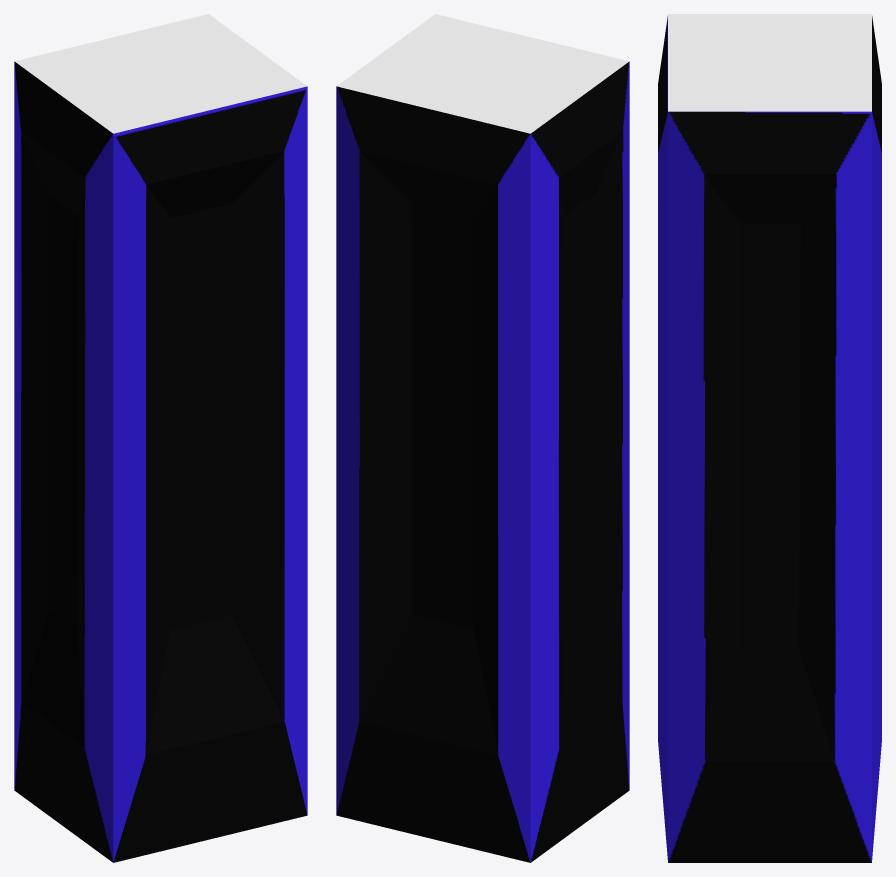
The model's file is Divider.fbx.
3 views of the same model, side by side, from view 1: azimuth 30°, elevation 25°; view 2: azimuth 150°, elevation 25°; view 3: azimuth 270°, elevation 25° (orthographic). The views are drawn at different scales.
Visible parts, largest first — view 1: Divider; view 2: Divider; view 3: Divider.
Boxes of the visible parts, x1,y1,x2,y2 form: Divider: [14, 14, 307, 862]; Divider: [336, 14, 629, 862]; Divider: [658, 14, 881, 862].
Size of the model in its own units: 283 by 900 by 243.
